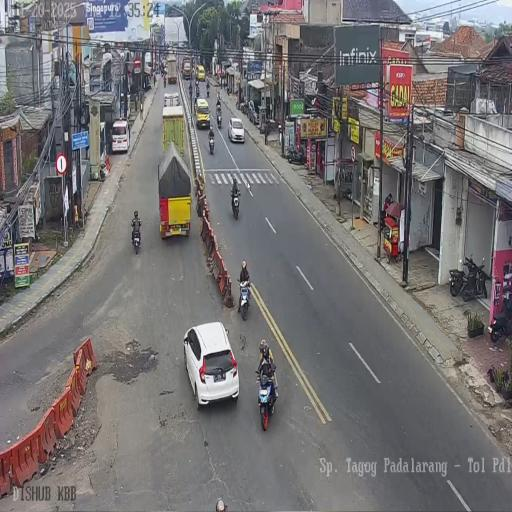3: (158, 139, 192, 239), (166, 53, 177, 84), (182, 57, 192, 79)
car: (184, 321, 242, 408), (111, 119, 130, 154), (194, 97, 211, 129), (227, 117, 245, 143), (247, 99, 259, 125), (197, 64, 205, 81)
truck: (256, 364, 278, 432), (460, 254, 489, 302), (489, 290, 511, 342), (237, 280, 251, 322), (449, 267, 465, 297), (286, 145, 306, 165), (131, 219, 142, 254), (230, 189, 240, 219), (340, 183, 352, 201), (208, 132, 215, 154), (240, 98, 249, 115), (216, 108, 222, 129), (277, 122, 282, 139), (195, 84, 200, 99), (235, 98, 240, 112), (161, 62, 166, 75), (188, 84, 192, 98), (206, 85, 210, 98), (163, 76, 166, 88)
